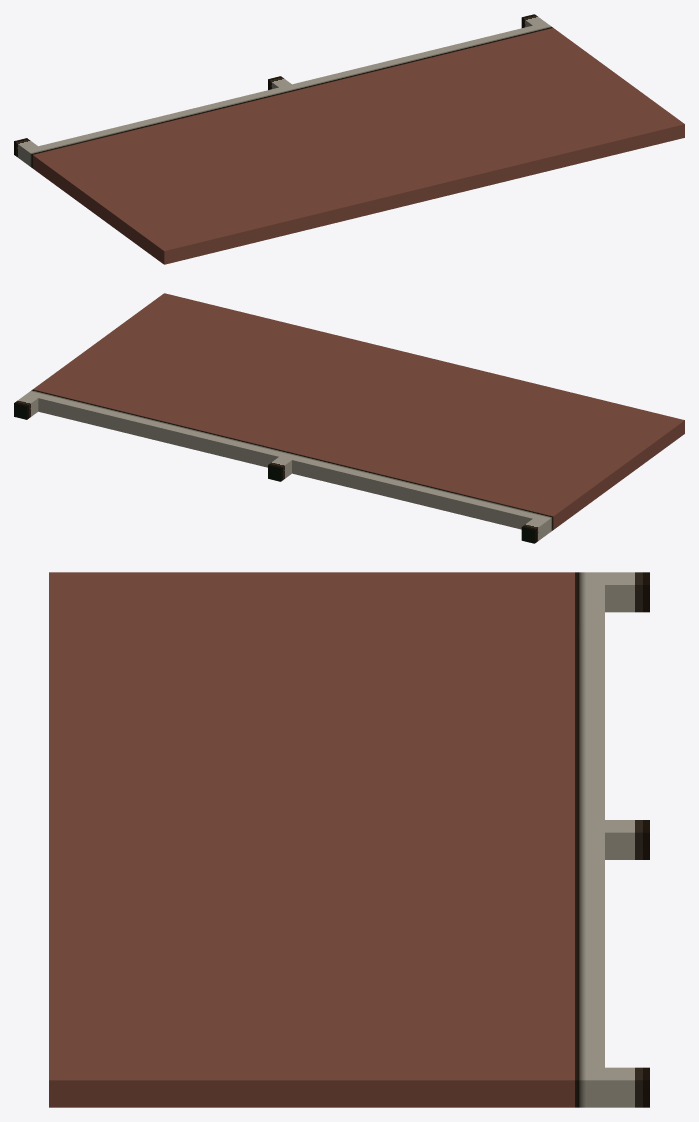
Rendered from prop_partition_02.glb.
3 renders of one model, top to bottom at view 1: azimuth 30°, elevation 25°; view 2: azimuth 150°, elevation 25°; view 3: azimuth 270°, elevation 25°, orthographic. The views are drawn at different scales.
Visible parts, largest first — view 1: prop_partition_02; view 2: prop_partition_02; view 3: prop_partition_02.
Part boxes in pixels (left/top/right/bottom): prop_partition_02: left=14, top=14, right=684, bottom=264; prop_partition_02: left=14, top=293, right=684, bottom=543; prop_partition_02: left=49, top=572, right=649, bottom=1107.
Bounding box in the file's own units: 160 × 4 × 80.
Materials: 5 (5 with a texture image).
